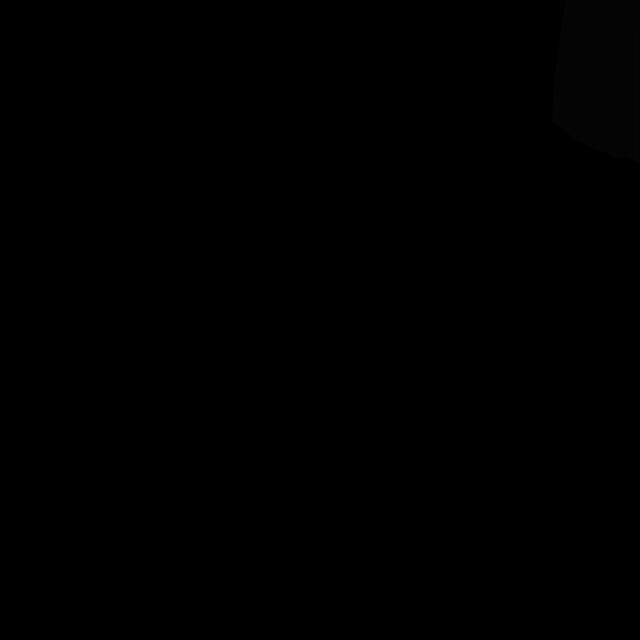soft_plastic: (552, 0, 640, 163)
